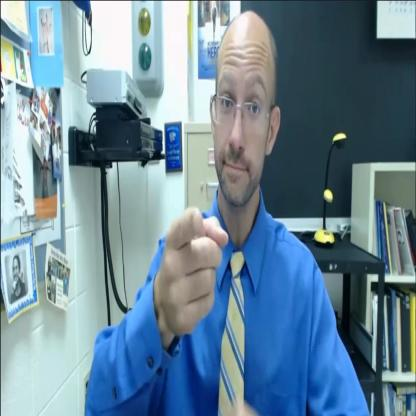HowAreYou: (134, 10, 314, 416)
